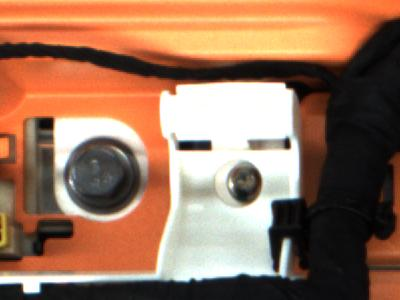nut_b: (66, 133, 143, 218)
